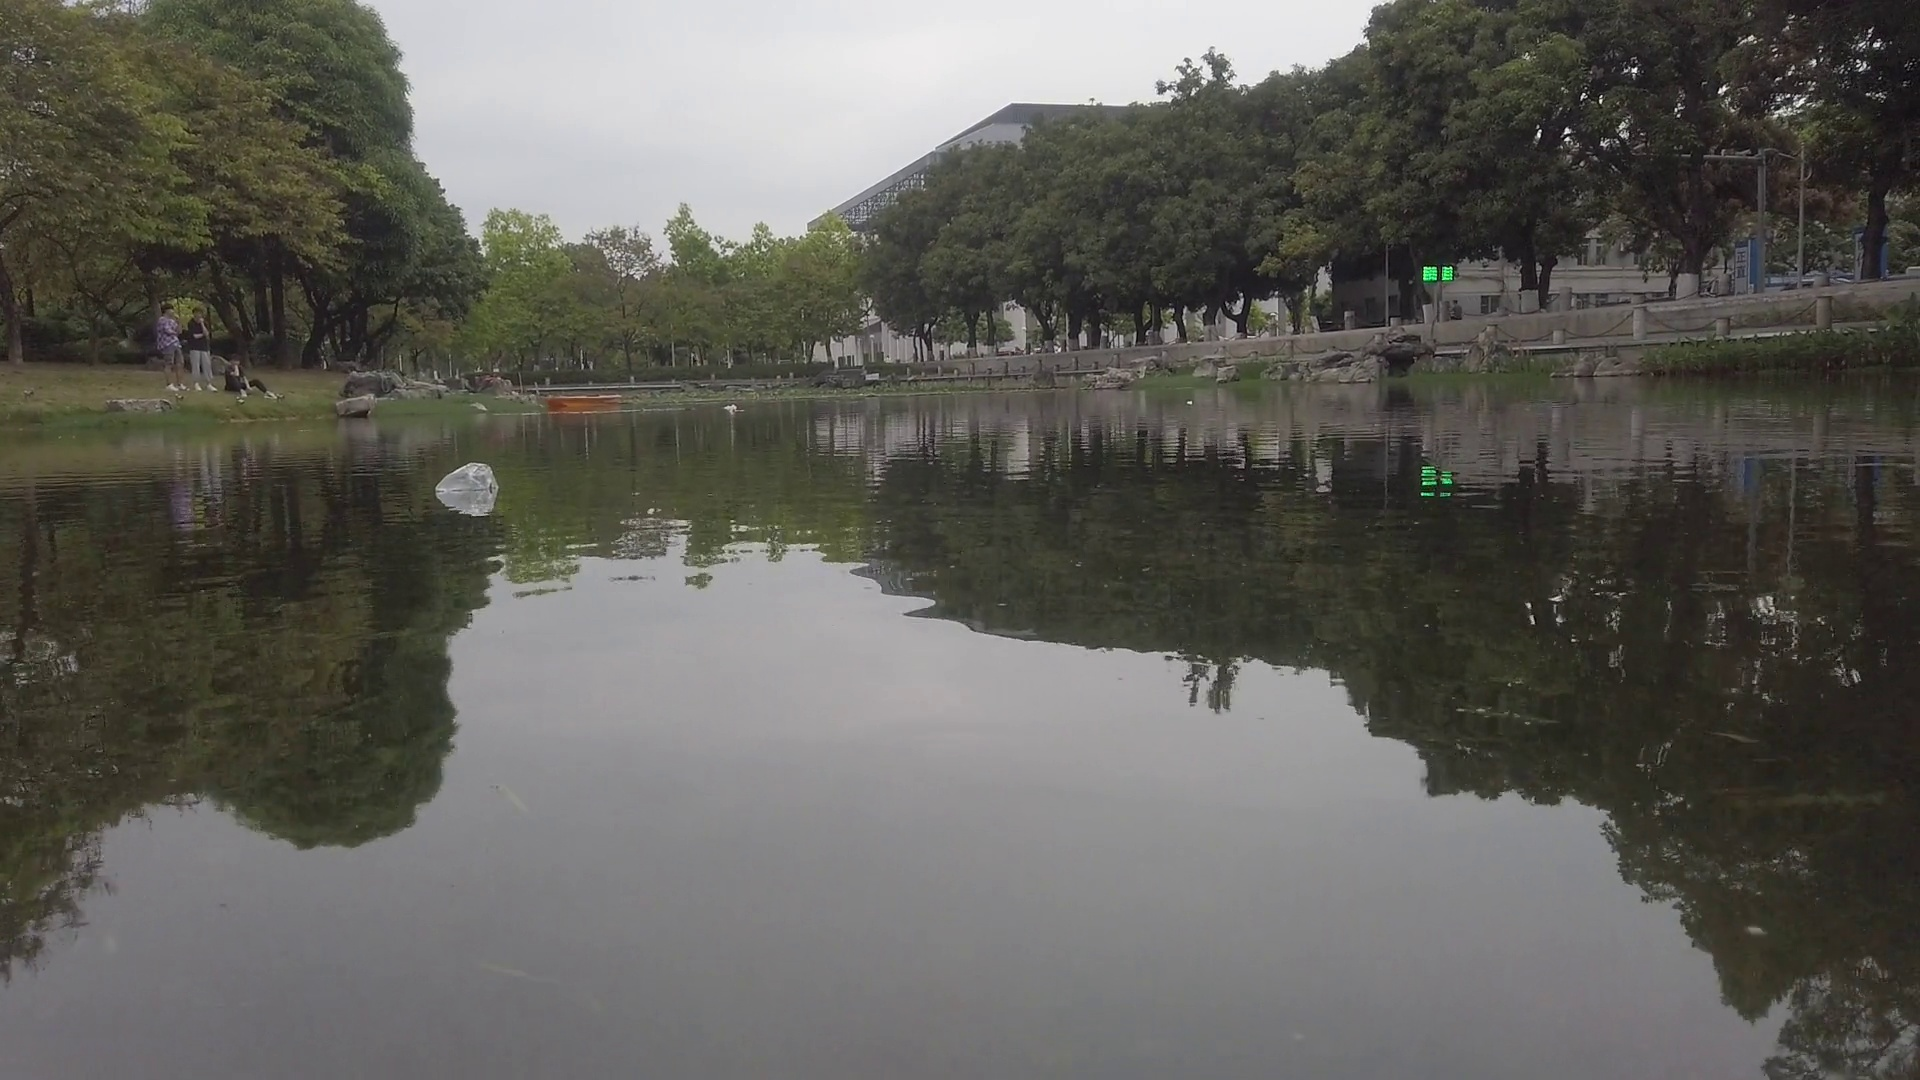paper: (1185, 398, 1199, 407)
plastic: (433, 463, 498, 496), (720, 404, 737, 413)
